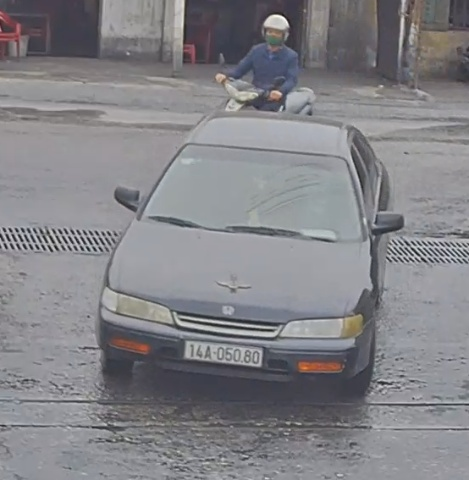vehicle plate: (180, 334, 264, 370)
